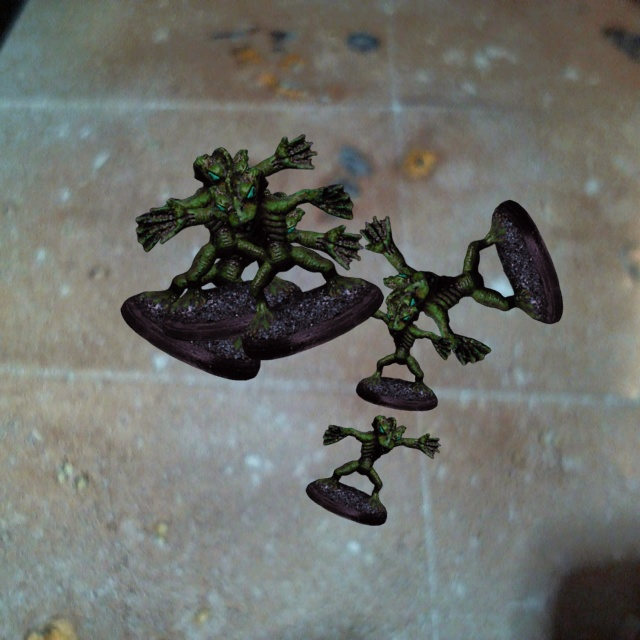pieza_juego: (120, 187, 363, 380), (147, 167, 383, 359), (135, 134, 317, 340), (359, 200, 562, 365), (306, 415, 440, 525), (348, 295, 451, 410)
